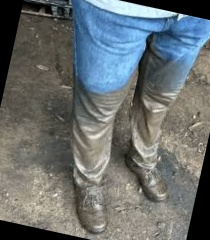earth: (62, 91, 119, 179), (124, 89, 170, 170), (141, 57, 184, 97)
